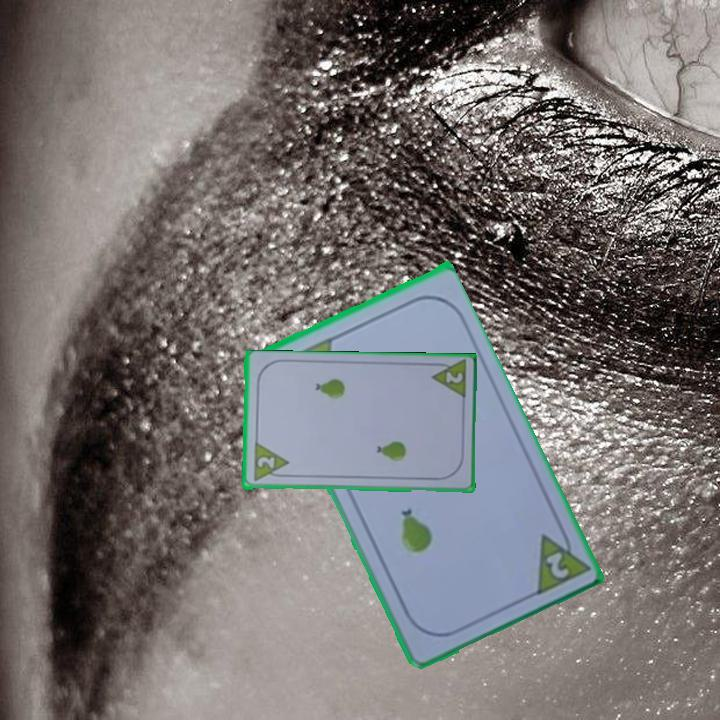2p: (427, 358, 469, 403), (541, 547, 572, 582), (253, 453, 277, 471)
